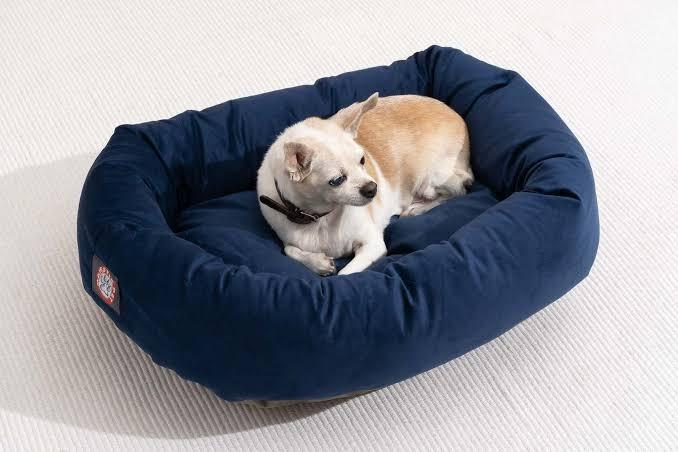adult_dog: (254, 87, 479, 280)
